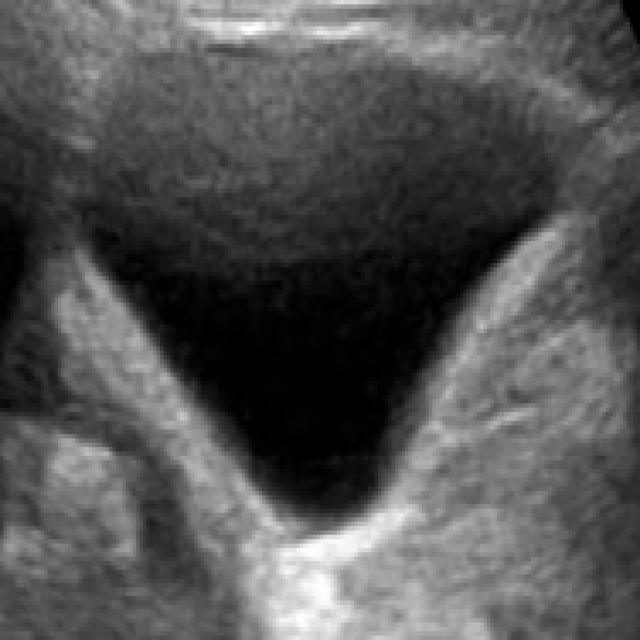bladder: (55, 16, 599, 592)
